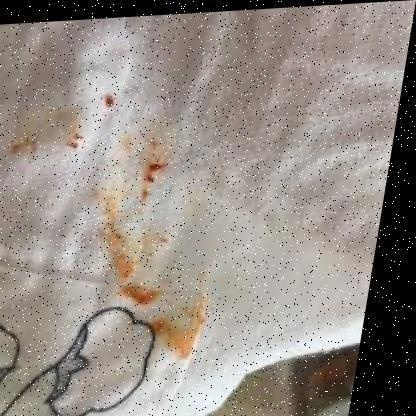kimchi: (96, 210, 175, 306), (12, 107, 89, 159), (163, 288, 216, 357), (134, 148, 176, 198), (85, 185, 119, 234), (150, 300, 187, 335), (96, 87, 121, 116)
